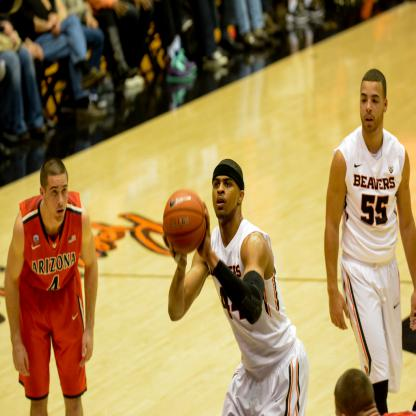Ball: (165, 189, 206, 254)
